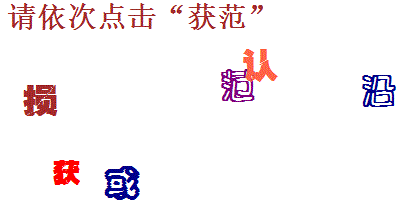result: (185, 1, 247, 31)
text: (19, 82, 59, 120), (101, 165, 144, 200), (219, 66, 258, 103), (240, 45, 279, 82), (360, 73, 398, 109), (50, 157, 82, 185)
